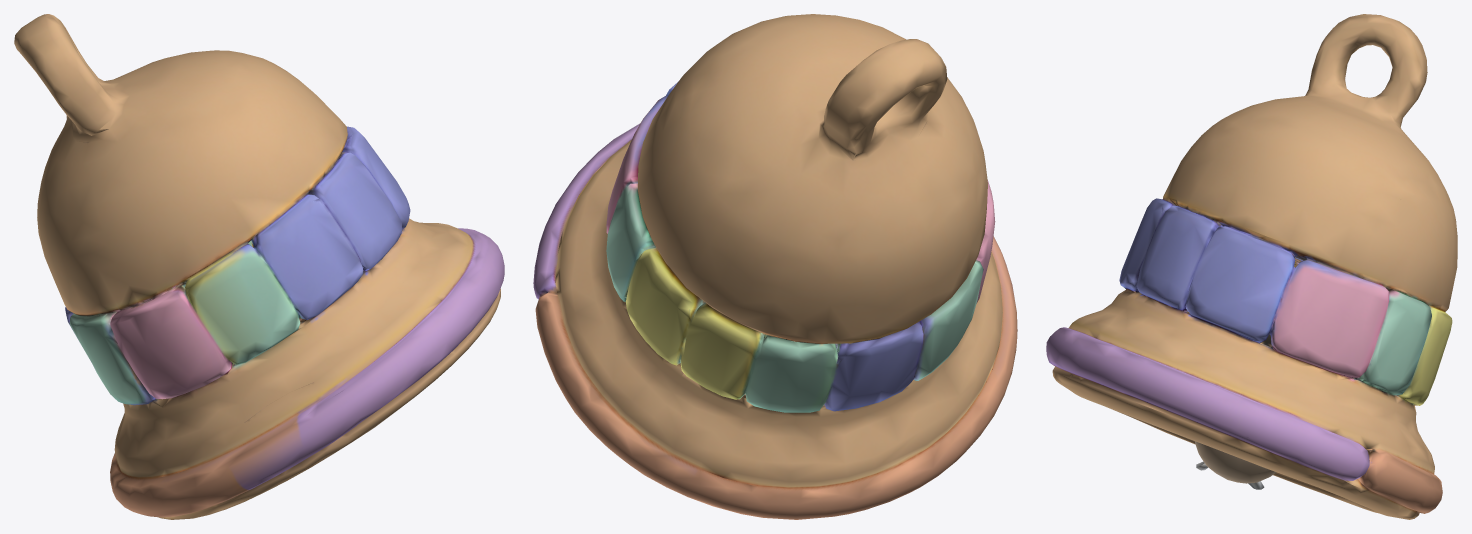
The picture shows the model from 3 angles, left to right: view 1: azimuth 30°, elevation 25°; view 2: azimuth 150°, elevation 25°; view 3: azimuth 270°, elevation 25°; orthographic projection. The views are drawn at different scales.
Visible parts, largest first — view 1: repaired; view 2: repaired; view 3: repaired.
Part boxes in pixels (x1,y1,x2,y2): repaired: [14, 14, 504, 519]; repaired: [533, 14, 1017, 519]; repaired: [1046, 14, 1457, 519].
Size of the model in its own units: 0.8859 by 0.9992 by 0.8537.
1 material, 1 textured.
